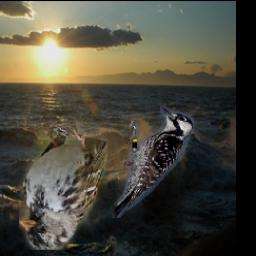Sparrow: (20, 120, 108, 250)
Woodpecker: (112, 106, 194, 219)
